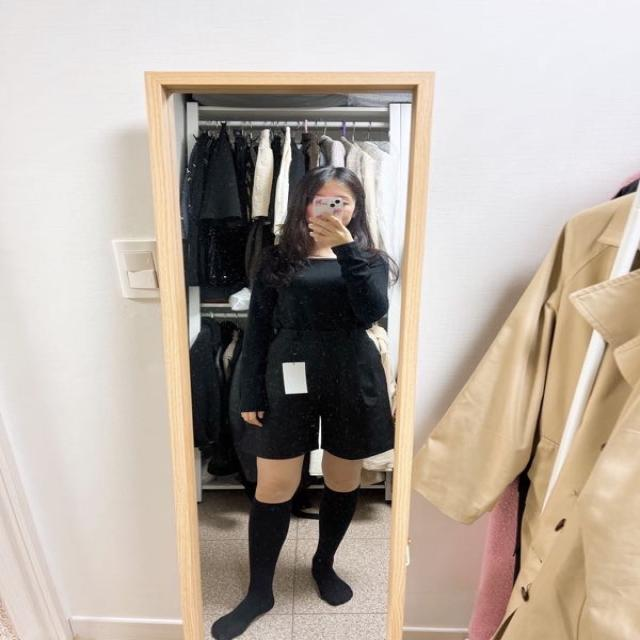longsleeve: (233, 241, 391, 412)
shortpants: (255, 326, 394, 460)
